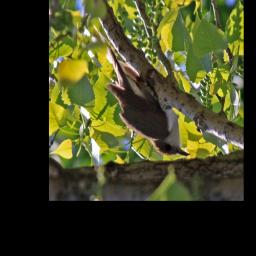Cuckoo: (103, 32, 191, 158)
